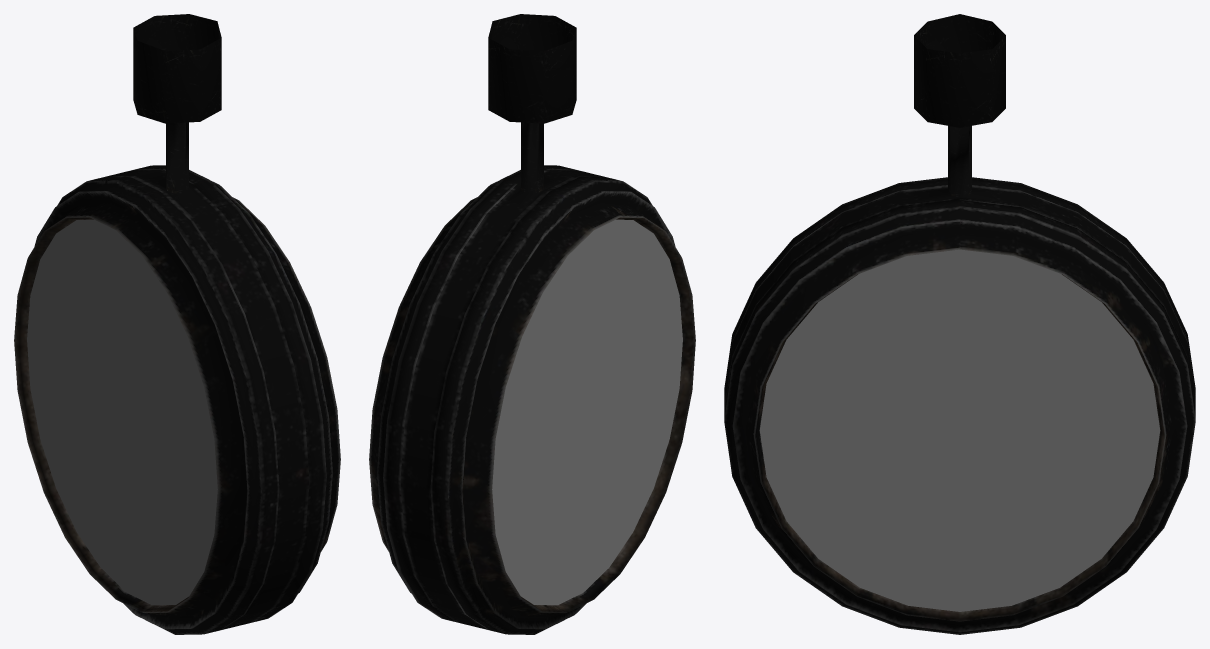
Rendered from clock_low.fbx.
3 views of the same model, side by side, from view 1: azimuth 30°, elevation 25°; view 2: azimuth 150°, elevation 25°; view 3: azimuth 270°, elevation 25° (orthographic).
Parts seen in each view (by area): view 1: clock_low; view 2: clock_low; view 3: clock_low.
Part boxes in pixels (x1=…): clock_low: x1=14, y1=14, x2=340, y2=634; clock_low: x1=369, y1=14, x2=695, y2=634; clock_low: x1=724, y1=14, x2=1195, y2=634.
Bounding box in the file's own units: 29.45 × 133 × 97.02.
2 materials, 1 textured.
